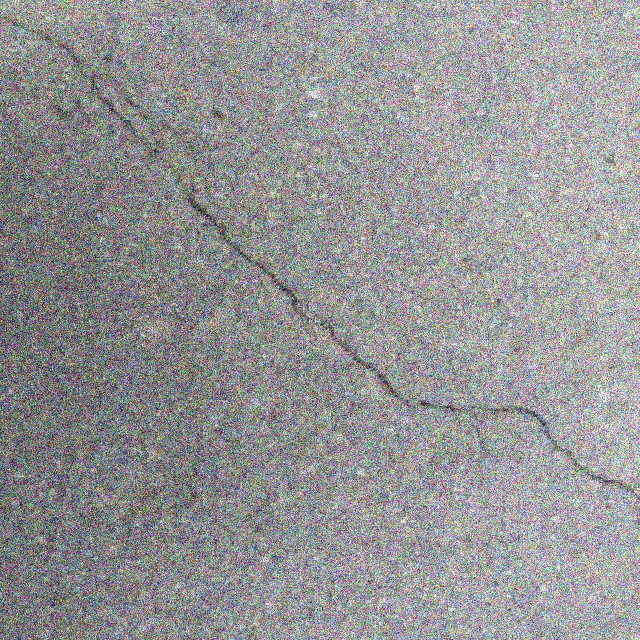SurfaceCrack: (8, 10, 632, 520)
